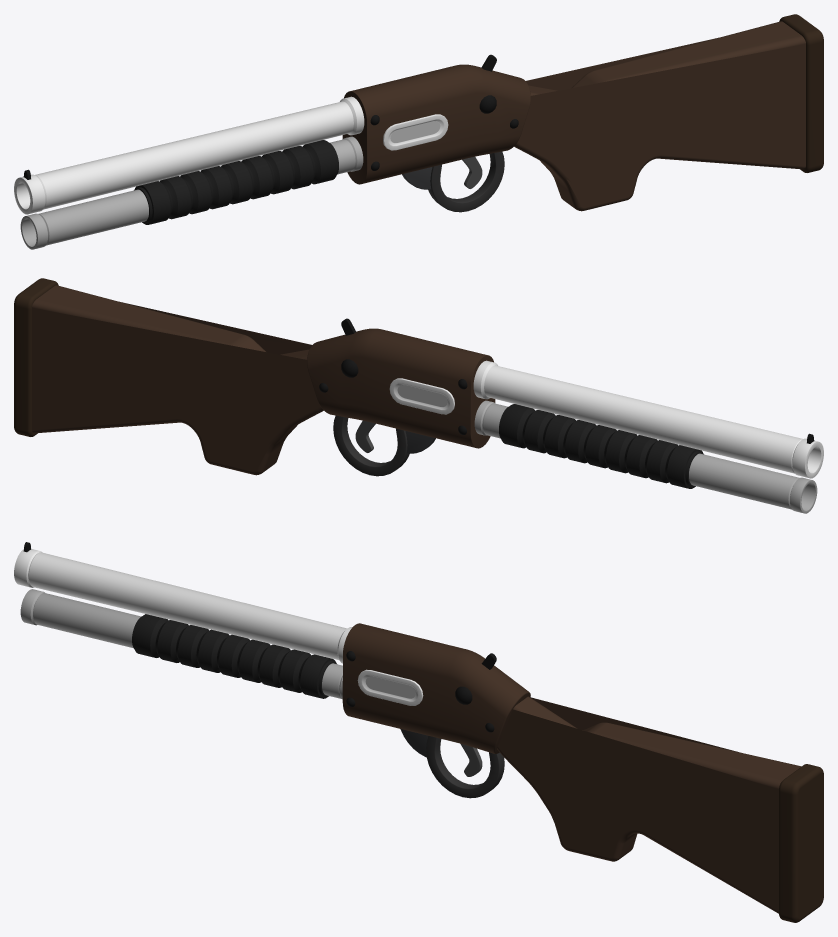
Rendered from SHOTGUN_BASIC.fbx.
3 renders of one model, top to bottom at view 1: azimuth 30°, elevation 25°; view 2: azimuth 150°, elevation 25°; view 3: azimuth 330°, elevation 25°, orthographic.
Visible parts, largest first — view 1: Receiver.005, Pump.005, MagazineTube.005; view 2: Receiver.005, Pump.005, MagazineTube.005; view 3: Receiver.005, Pump.005, MagazineTube.005.
Part boxes in pixels (<box>): Receiver.005: <box>14,14,823,214</box>; Pump.005: <box>134,140,338,224</box>; MagazineTube.005: <box>20,136,363,249</box>; Receiver.005: <box>14,278,823,478</box>; Pump.005: <box>499,404,703,488</box>; MagazineTube.005: <box>474,400,817,513</box>; Receiver.005: <box>14,542,823,922</box>; Pump.005: <box>132,614,336,698</box>; MagazineTube.005: <box>20,589,342,699</box>.
Bounding box in the file's own units: 458 × 102 × 30.85.
